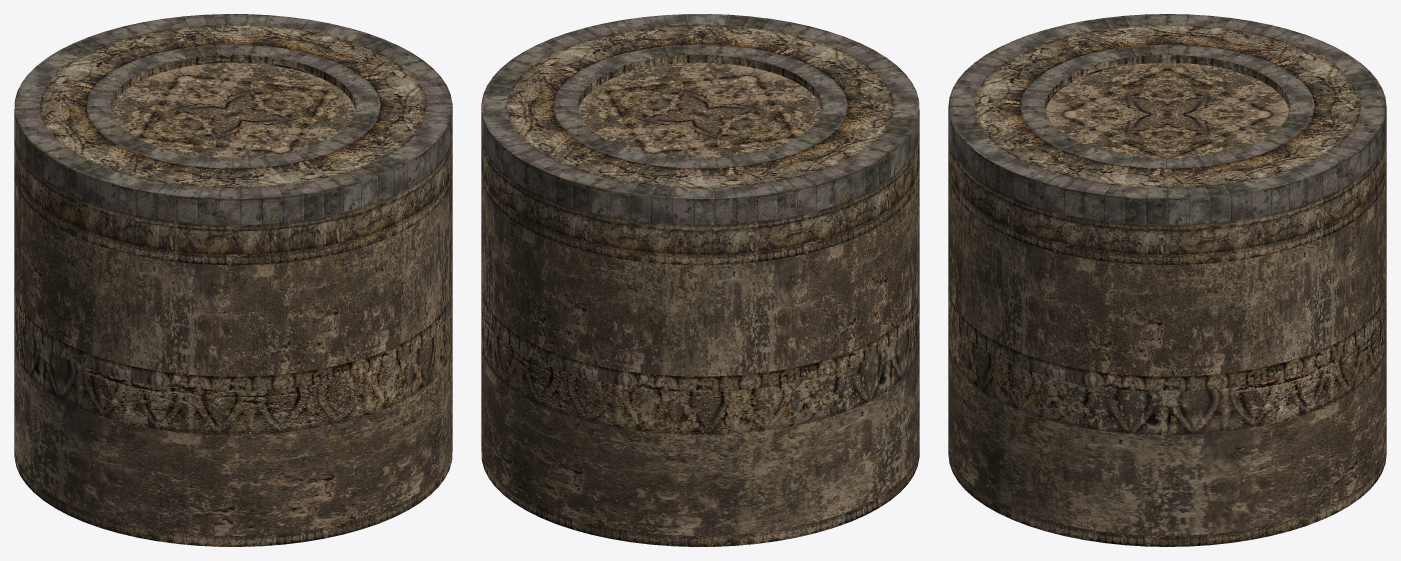
Rendered from materials_5_pillar_fat_5.fbx.
3 renders of one model, left to right at view 1: azimuth 30°, elevation 25°; view 2: azimuth 150°, elevation 25°; view 3: azimuth 270°, elevation 25°, orthographic.
Visible parts, largest first — view 1: materials_5_pillar_fat_5; view 2: materials_5_pillar_fat_5; view 3: materials_5_pillar_fat_5.
Part boxes in pixels (left/top/right/bottom): materials_5_pillar_fat_5: left=14, top=14, right=452, bottom=546; materials_5_pillar_fat_5: left=481, top=14, right=919, bottom=546; materials_5_pillar_fat_5: left=948, top=14, right=1386, bottom=546.
Size of the model in its own units: 135 by 118 by 135.
